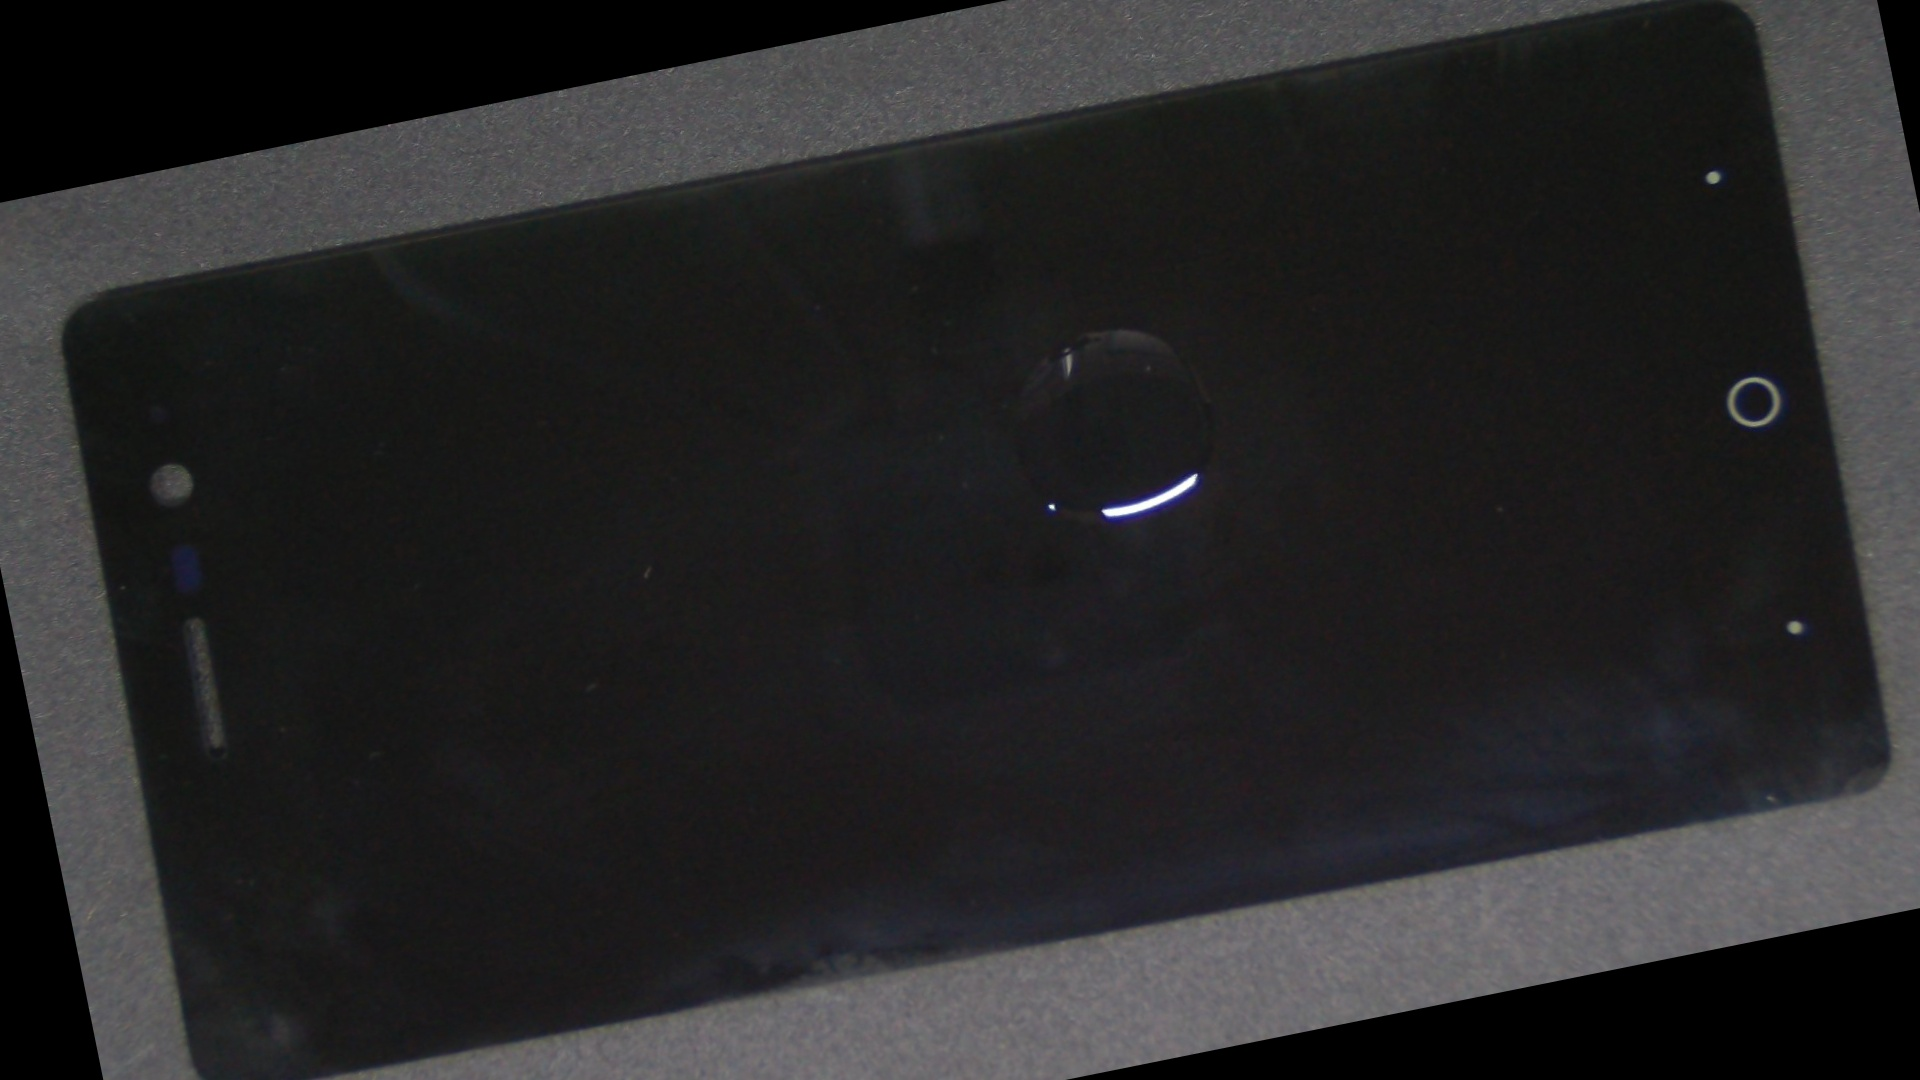oil: (504, 59, 1650, 613)
